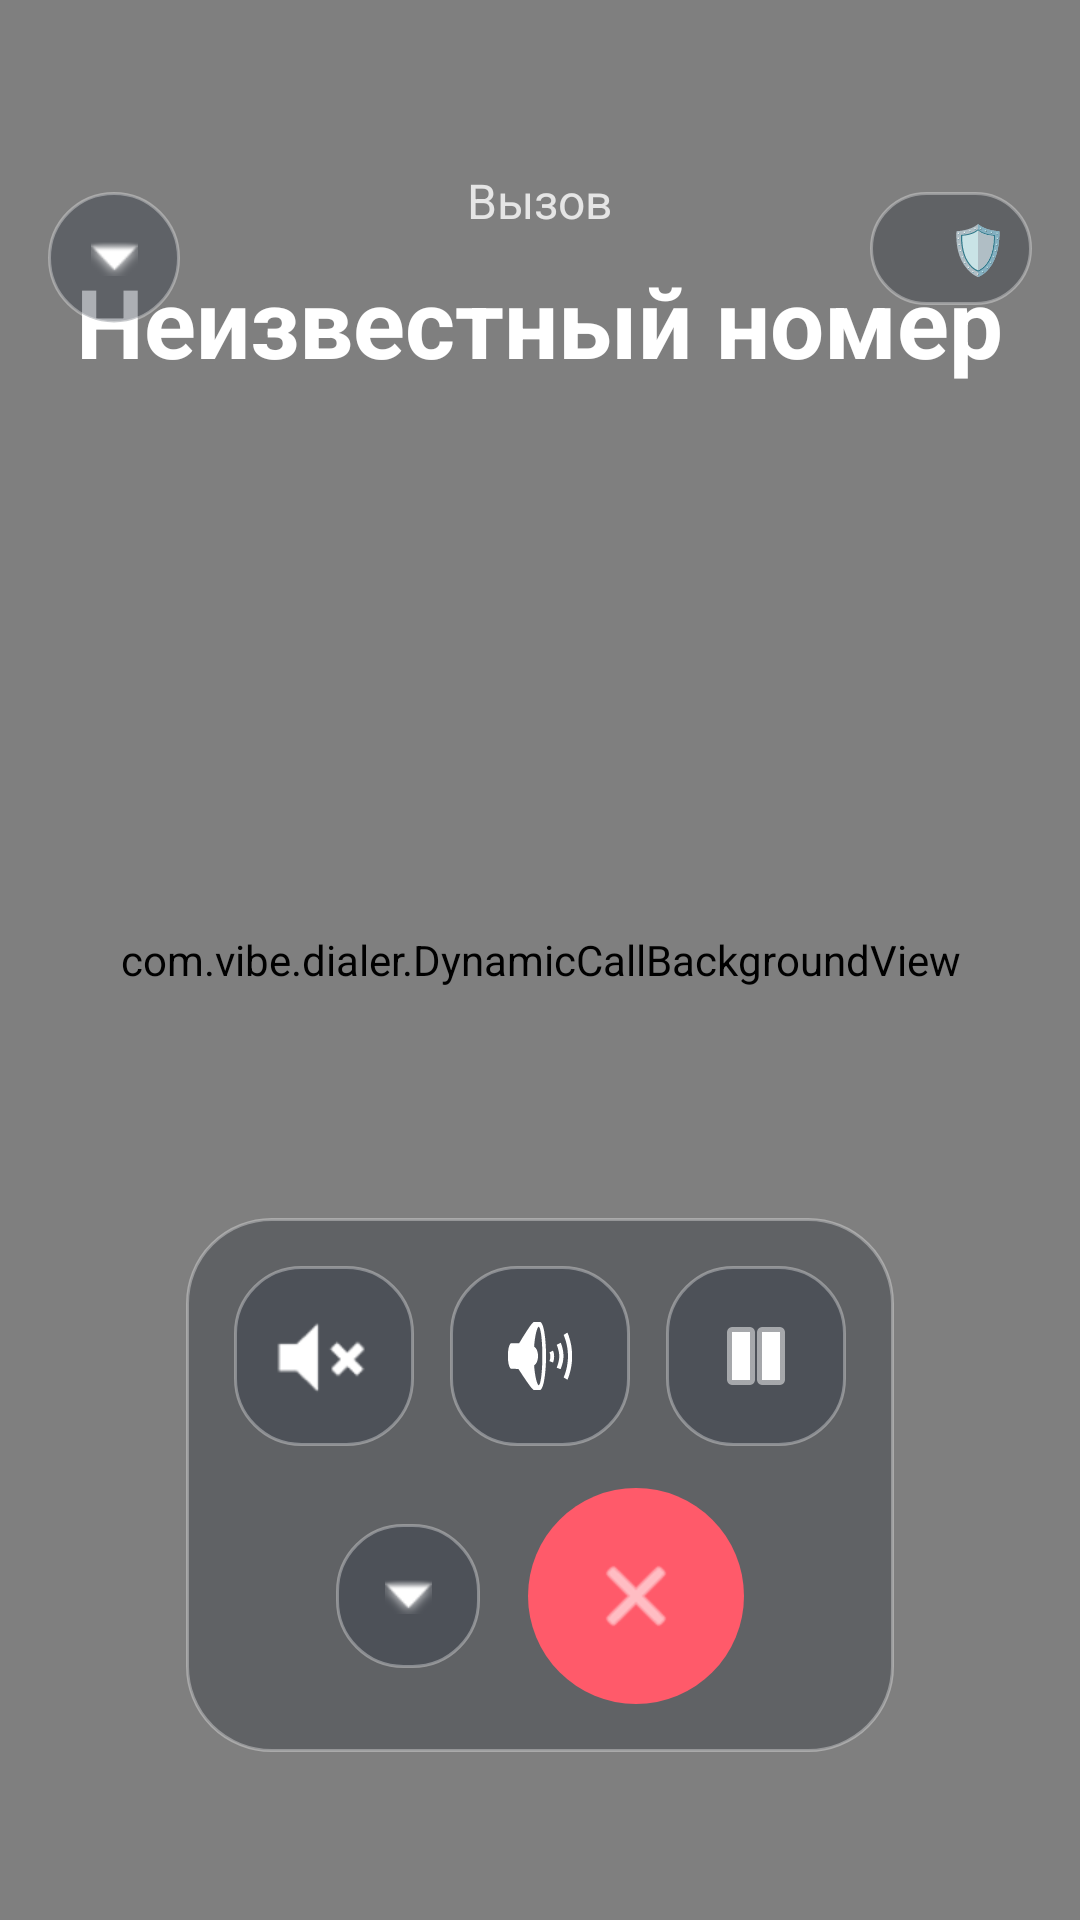

Named icons in this screenshot (1080px x 1920px) and their bounding boxes, (x1, y1, x2, y2):
close clear cancel: (528, 1488, 744, 1704)
lock silent mode: (234, 1266, 414, 1446)
lock silent mode off: (450, 1266, 630, 1446)
pause: (666, 1266, 846, 1446)
